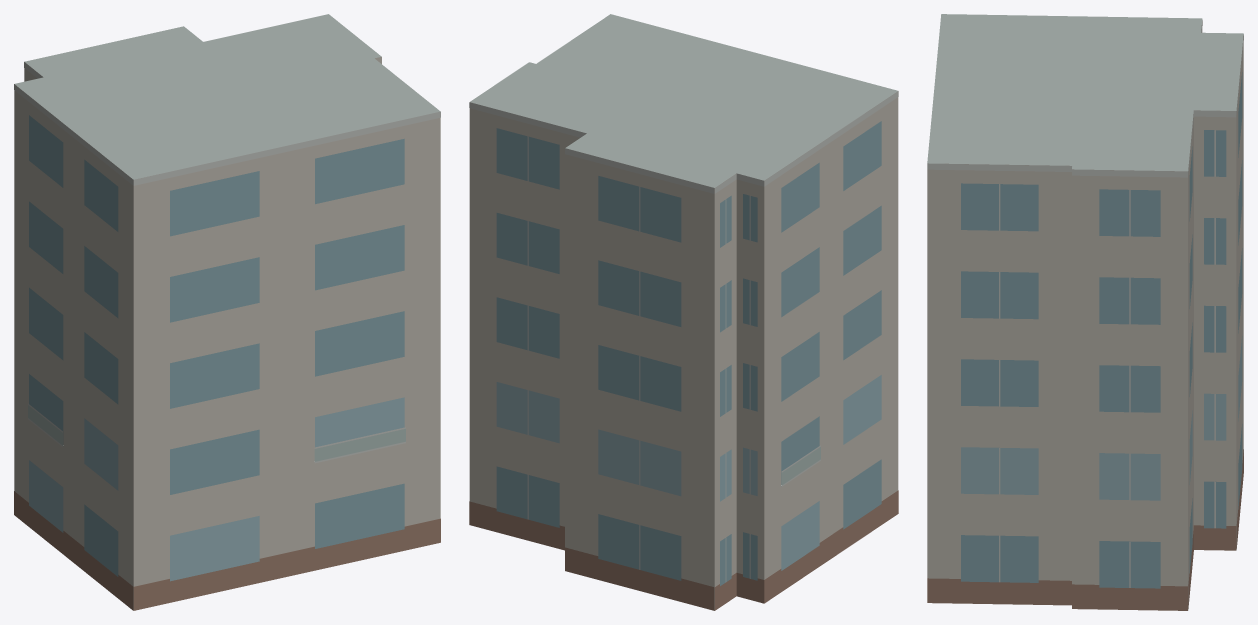
Rendered from survey-upis-32655495.glb.
3 views of the same model, side by side, from view 1: azimuth 30°, elevation 25°; view 2: azimuth 150°, elevation 25°; view 3: azimuth 270°, elevation 25° (orthographic). The views are drawn at different scales.
Parts seen in each view (by area): view 1: survey-upis-32655495.tmp; view 2: survey-upis-32655495.tmp; view 3: survey-upis-32655495.tmp.
Boxes of the visible parts, box(x1,y1,x2,y2) form: survey-upis-32655495.tmp: box(14, 14, 440, 610); survey-upis-32655495.tmp: box(469, 14, 898, 610); survey-upis-32655495.tmp: box(927, 14, 1243, 610).
Bounding box in the file's own units: 13.14 × 17.1 × 11.17.
